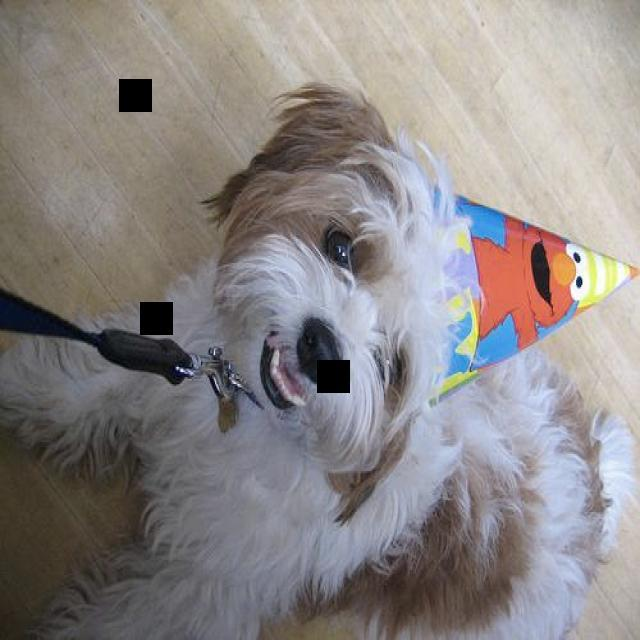adult_dog: (1, 83, 640, 630)
